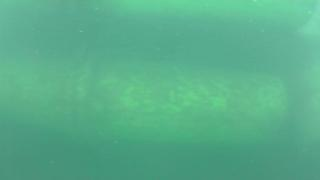pipe: (1, 51, 290, 147), (2, 1, 311, 31)
